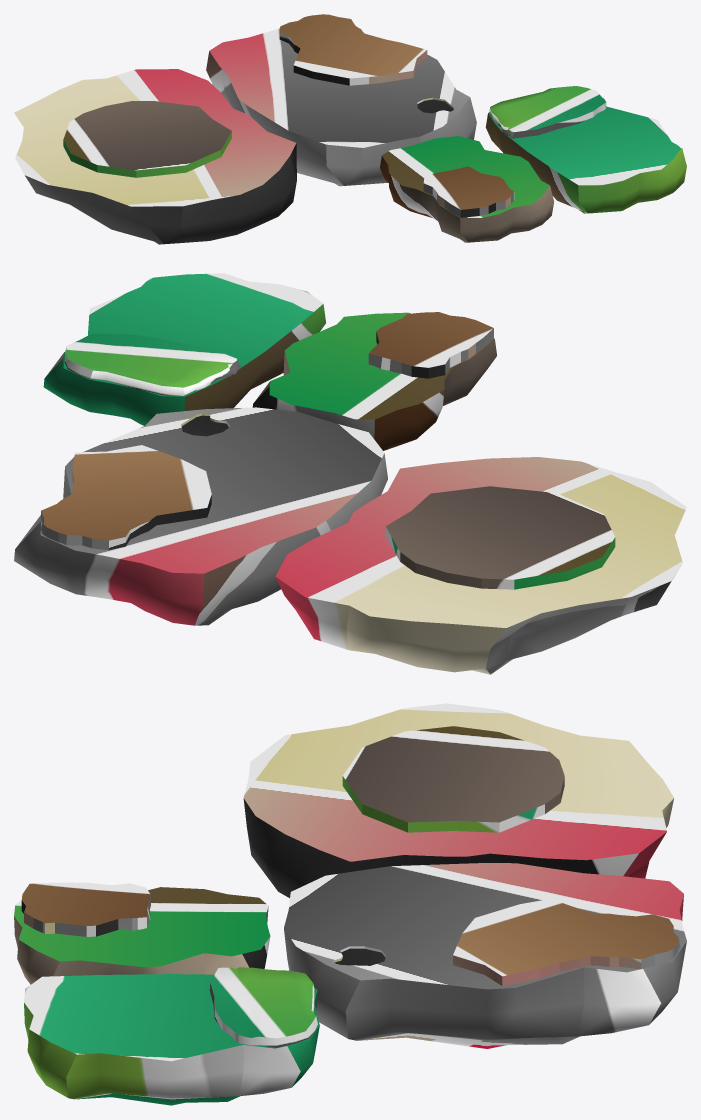
The model's file is islas principales.fbx.
3 views of the same model, one above another, from view 1: azimuth 30°, elevation 25°; view 2: azimuth 150°, elevation 25°; view 3: azimuth 270°, elevation 25° (orthographic). The views are drawn at different scales.
Visible parts, largest first — view 1: pCube27, pCube24, pCube16, pCube26, pCube23, pCube33, pCube17, pCube25; view 2: pCube27, pCube24, pCube16, pCube26, pCube23, pCube33, pCube17, pCube25; view 3: pCube24, pCube27, pCube16, pCube26, pCube23, pCube33, pCube17, pCube25.
Boxes of the visible parts, left/top/right/bottom form: pCube27: left=14, top=69, right=296, bottom=244; pCube24: left=206, top=28, right=476, bottom=186; pCube16: left=485, top=106, right=686, bottom=213; pCube26: left=63, top=101, right=231, bottom=177; pCube23: left=380, top=136, right=554, bottom=242; pCube33: left=279, top=14, right=427, bottom=85; pCube17: left=489, top=86, right=606, bottom=138; pCube25: left=423, top=166, right=514, bottom=217; pCube27: left=275, top=457, right=686, bottom=674; pCube24: left=14, top=407, right=387, bottom=625; pCube16: left=43, top=273, right=325, bottom=425; pCube26: left=385, top=486, right=615, bottom=589; pCube23: left=252, top=312, right=496, bottom=450; pCube33: left=41, top=445, right=211, bottom=550; pCube17: left=64, top=333, right=240, bottom=395; pCube25: left=368, top=312, right=493, bottom=378; pCube24: left=284, top=863, right=686, bottom=1048; pCube27: left=243, top=703, right=673, bottom=898; pCube16: left=24, top=974, right=319, bottom=1105; pCube26: left=342, top=726, right=564, bottom=832; pCube23: left=14, top=887, right=270, bottom=984; pCube33: left=453, top=899, right=680, bottom=986; pCube17: left=209, top=967, right=317, bottom=1047; pCube25: left=21, top=882, right=150, bottom=936.
Size of the model in its own units: 129 by 19.81 by 103.
